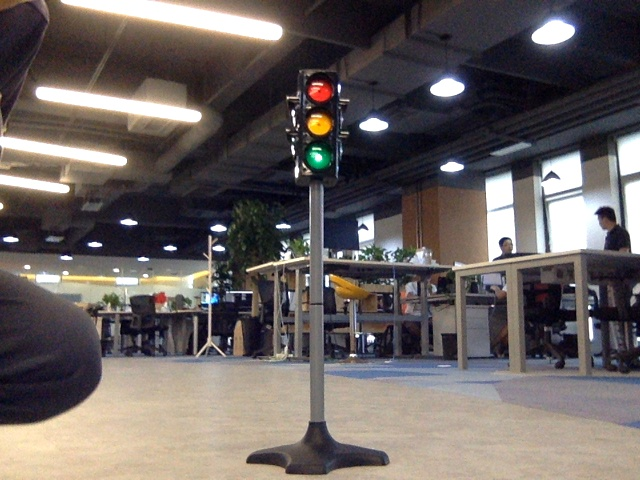green: (304, 75, 337, 168)
